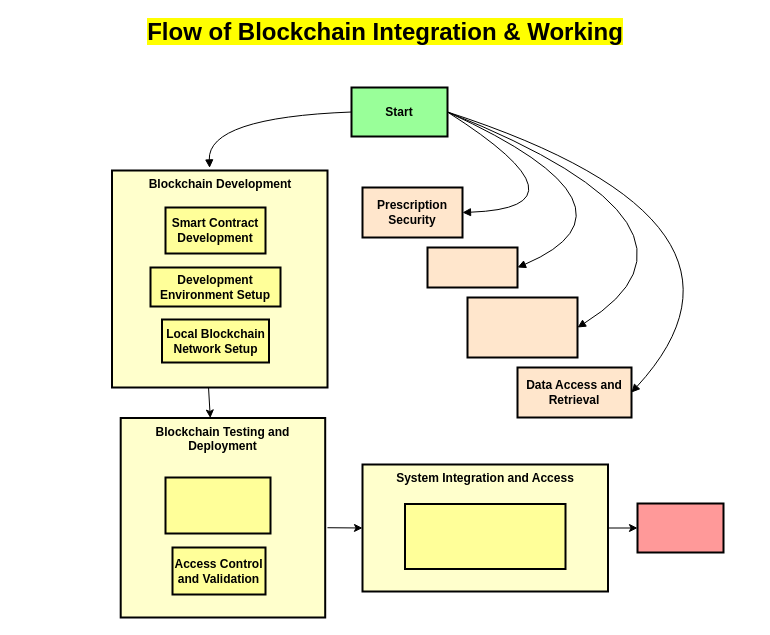
Some shapes in this 770 by 635 pixel diagram are drawn without their labels. Each missing label, with the centre of its shape:
End: the point at 680,527
Integration with Front-End and Backend: the point at 485,536
Lab Report Verification: the point at 472,267
Pharmacy Billing Authentication: the point at 522,327
Smart Contract Deployment: the point at 217,505
